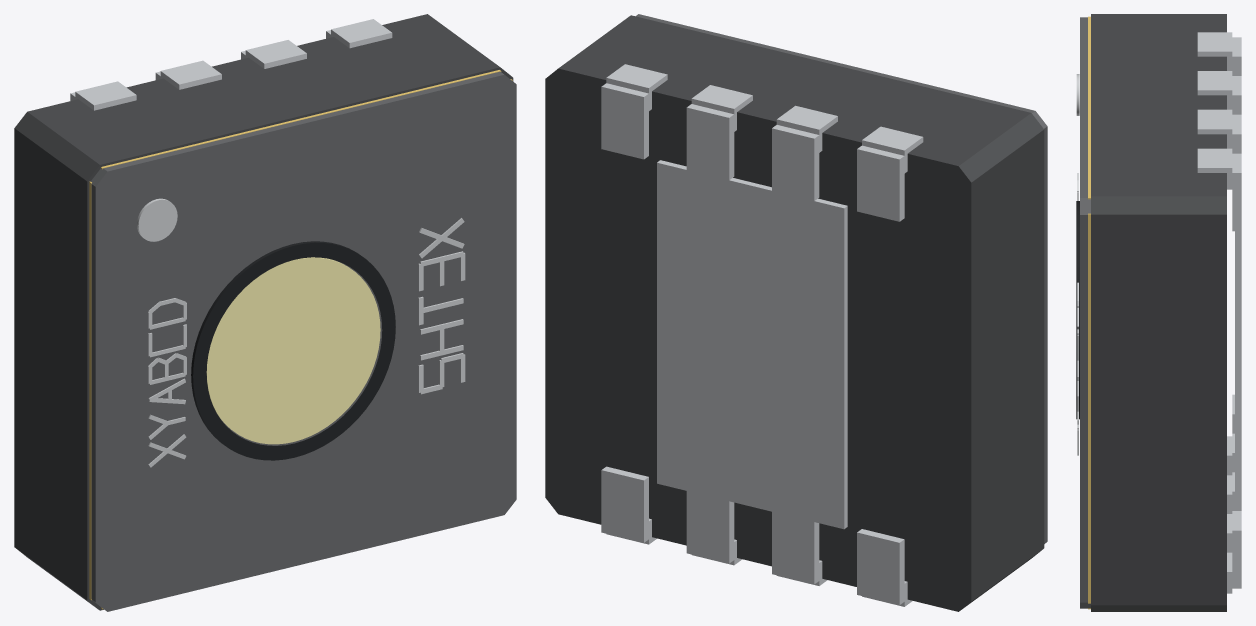
The model's file is temp-moisture-sensor.glb.
3 renders of one model, left to right at view 1: azimuth 30°, elevation 25°; view 2: azimuth 150°, elevation 25°; view 3: azimuth 270°, elevation 25°, orthographic. The views are drawn at different scales.
Parts seen in each view (by area): view 1: SHT3X_Top_Cap, SHT3X_Body, SHT3X_Humidity_Port, SHT3X_Cavity_Ring, SHT3X_Marking_Model, SHT3X_Marking_Lot, SHT3X_Gold_Seam, SHT3X_Pin1_Marker, SHT3X_Pin_8, SHT3X_Pin_7, SHT3X_Pin_5, SHT3X_Pin_6; view 2: SHT3X_Body, SHT3X_Underside_Center_Pad, SHT3X_Pin_6, SHT3X_Pin_5, SHT3X_Pin_8, SHT3X_Pin_7, SHT3X_Pin_4, SHT3X_Pin_1, SHT3X_Top_Cap, SHT3X_Pin_3, SHT3X_Pin_2; view 3: SHT3X_Body, SHT3X_Top_Cap, SHT3X_Underside_Center_Pad, SHT3X_Pin_5, SHT3X_Gold_Seam, SHT3X_Pin_6, SHT3X_Pin_8, SHT3X_Pin_7, SHT3X_Pin_4, SHT3X_Cavity_Ring, SHT3X_Pin_3, SHT3X_Pin_1 (+2 smaller).
Boxes of the visible parts, left/top/right/bottom form: SHT3X_Top_Cap: left=91, top=71, right=516, bottom=611; SHT3X_Body: left=14, top=14, right=513, bottom=610; SHT3X_Humidity_Port: left=206, top=257, right=380, bottom=444; SHT3X_Cavity_Ring: left=191, top=241, right=395, bottom=460; SHT3X_Marking_Model: left=418, top=218, right=465, bottom=394; SHT3X_Marking_Lot: left=148, top=298, right=186, bottom=467; SHT3X_Gold_Seam: left=89, top=70, right=512, bottom=609; SHT3X_Pin1_Marker: left=137, top=198, right=177, bottom=241; SHT3X_Pin_8: left=70, top=81, right=136, bottom=110; SHT3X_Pin_7: left=155, top=60, right=221, bottom=89; SHT3X_Pin_5: left=326, top=19, right=392, bottom=48; SHT3X_Pin_6: left=241, top=40, right=306, bottom=68; SHT3X_Body: left=545, top=15, right=1044, bottom=611; SHT3X_Underside_Center_Pad: left=657, top=160, right=847, bottom=529; SHT3X_Pin_6: left=686, top=85, right=752, bottom=179; SHT3X_Pin_5: left=601, top=64, right=667, bottom=159; SHT3X_Pin_8: left=857, top=126, right=923, bottom=221; SHT3X_Pin_7: left=772, top=105, right=837, bottom=200; SHT3X_Pin_4: left=601, top=466, right=656, bottom=544; SHT3X_Pin_1: left=857, top=529, right=912, bottom=606; SHT3X_Top_Cap: left=636, top=14, right=1047, bottom=543; SHT3X_Pin_3: left=686, top=491, right=741, bottom=565; SHT3X_Pin_2: left=772, top=512, right=827, bottom=585; SHT3X_Body: left=1091, top=14, right=1226, bottom=611; SHT3X_Top_Cap: left=1080, top=17, right=1090, bottom=608; SHT3X_Underside_Center_Pad: left=1235, top=231, right=1241, bottom=505; SHT3X_Pin_5: left=1197, top=148, right=1241, bottom=231; SHT3X_Gold_Seam: left=1088, top=16, right=1090, bottom=609; SHT3X_Pin_6: left=1197, top=109, right=1241, bottom=153; SHT3X_Pin_8: left=1197, top=32, right=1241, bottom=75; SHT3X_Pin_7: left=1197, top=71, right=1241, bottom=114; SHT3X_Pin_4: left=1227, top=511, right=1241, bottom=593; SHT3X_Cavity_Ring: left=1076, top=201, right=1079, bottom=419; SHT3X_Pin_3: left=1227, top=472, right=1241, bottom=552; SHT3X_Pin_1: left=1227, top=394, right=1234, bottom=475.
Bounding box in the file's own units: 0.0025 × 0.00256 × 0.0009.
